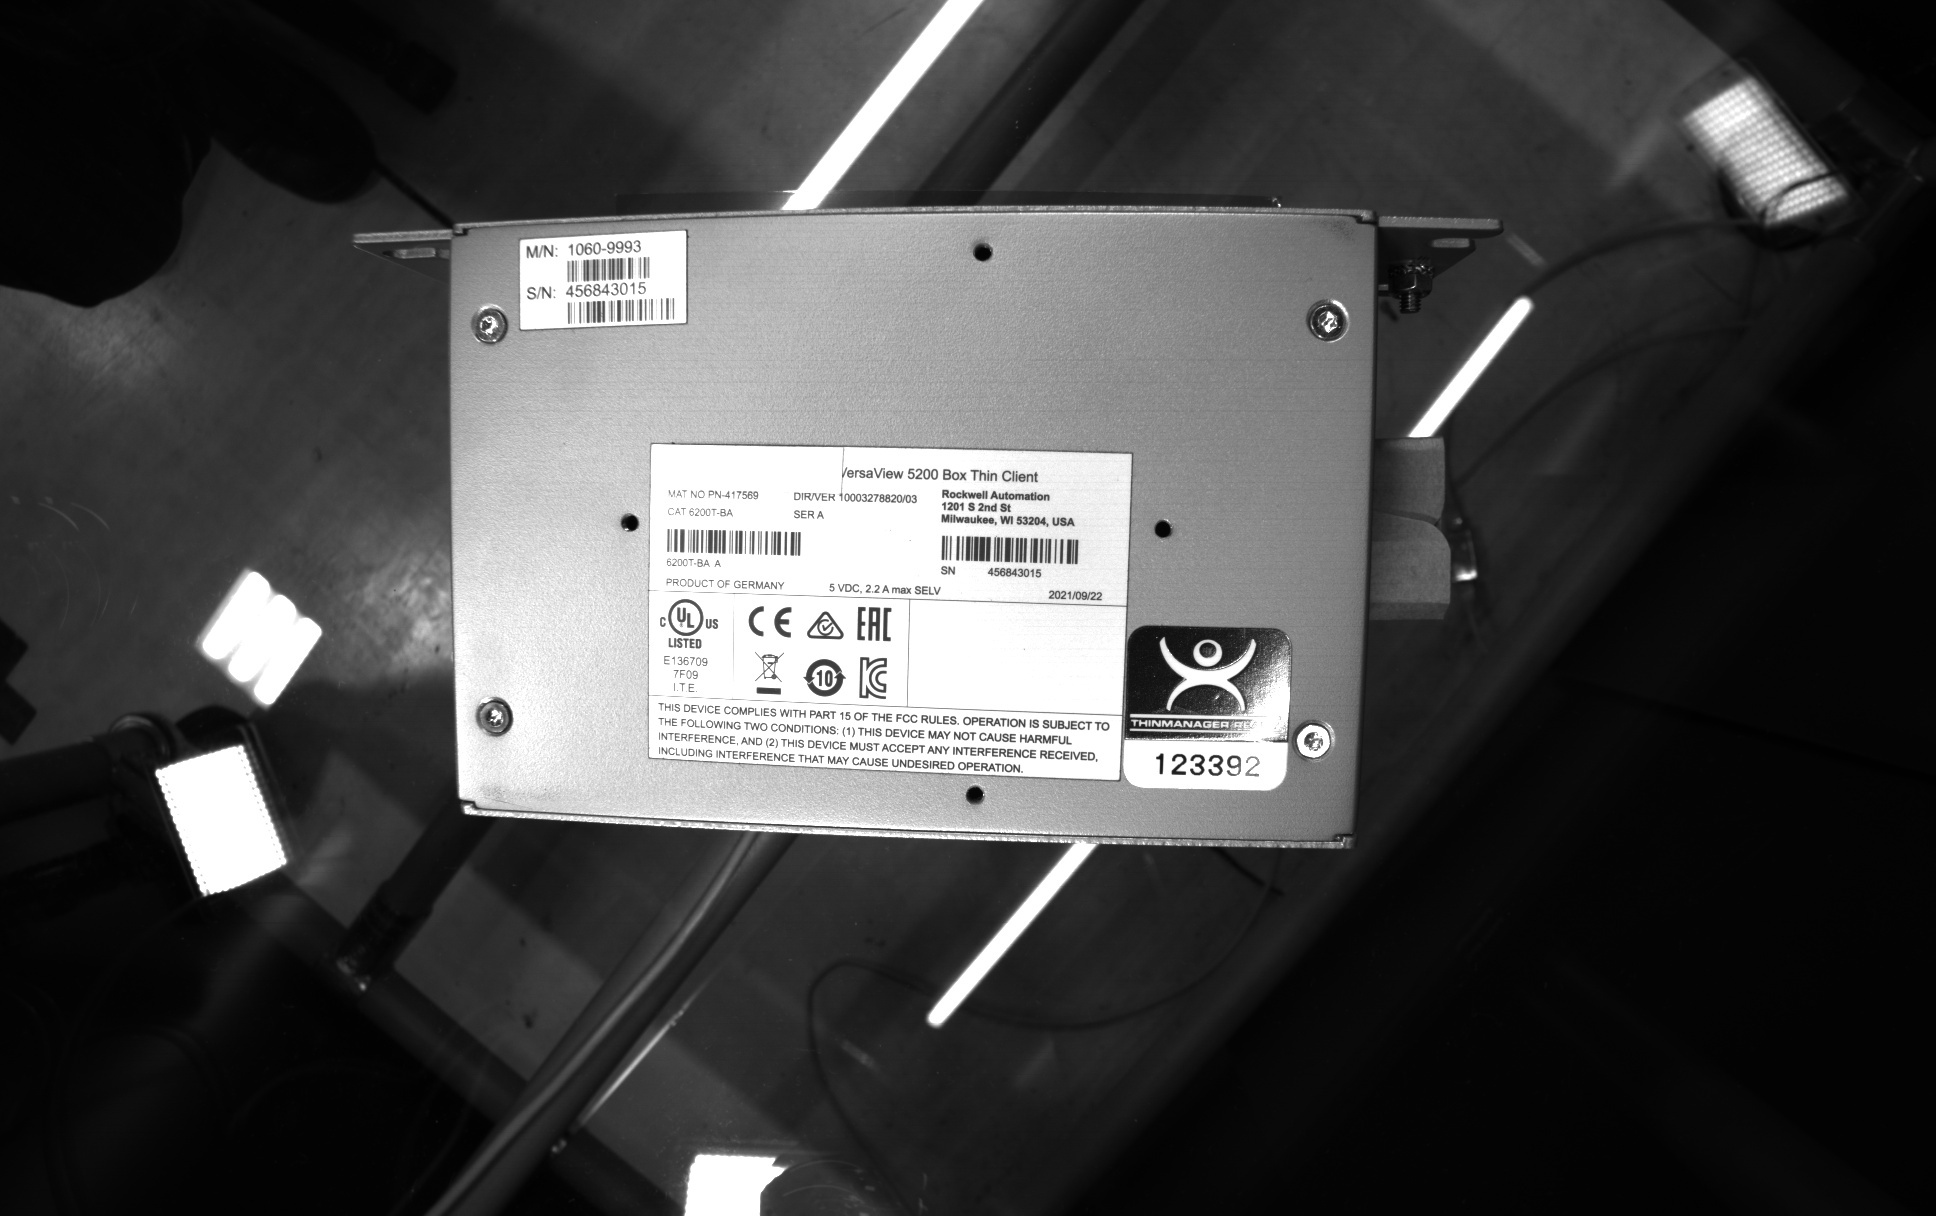Barcode: (932, 530, 1087, 572), (661, 521, 808, 560), (560, 291, 678, 331), (560, 251, 654, 290)
CamTop: (430, 191, 1401, 871)
Label_Seriennummer: (635, 426, 1145, 792)
Loch_Montage: (607, 496, 647, 541), (955, 775, 997, 814), (1146, 510, 1185, 551), (964, 233, 1004, 270)
Schraube: (1303, 291, 1360, 345), (471, 691, 521, 747), (1290, 713, 1341, 768), (464, 298, 514, 350)
